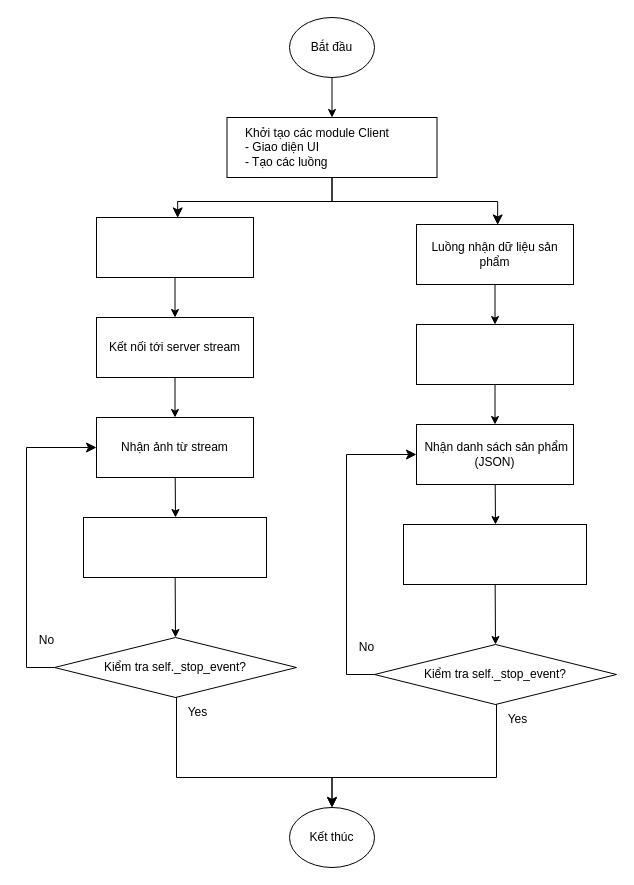
Some shapes in this 634 by 885 pixel diagram are drawn without their labels. The shapes that lost their labels are listed below. From the top down, each one's centre as x and y in pixels, then its label:
At [175,247]: "Luồng nhận stream ảnh".
At [495,354]: "Gửi yêu cầu lấy dữ liệu sản phẩm".
At [174,547]: "Hiển thị ảnh lên giao diện UI".
At [494,554]: "Cập nhật giao diện danh sách sản phẩm".
